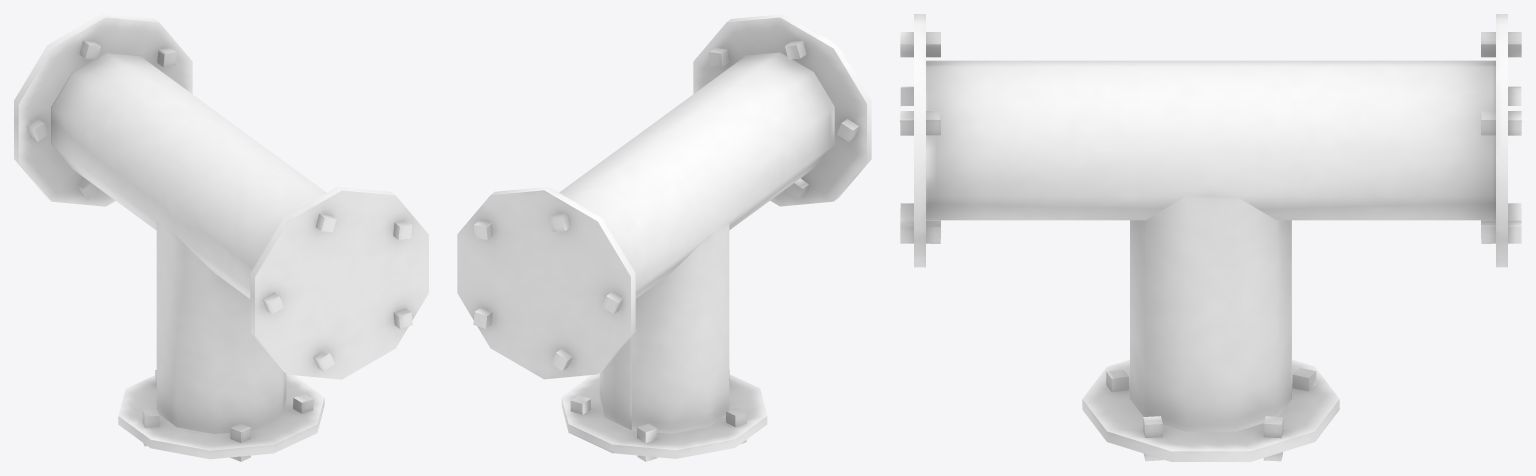
The model's file is PipeT.glb.
The picture shows the model from 3 angles, left to right: view 1: azimuth 30°, elevation 25°; view 2: azimuth 150°, elevation 25°; view 3: azimuth 270°, elevation 25°; orthographic projection. The views are drawn at different scales.
Visible parts, largest first — view 1: PipeT; view 2: PipeT; view 3: PipeT.
Boxes of the visible parts, left/top/right/bottom form: PipeT: left=14, top=14, right=428, bottom=461; PipeT: left=457, top=14, right=871, bottom=461; PipeT: left=900, top=14, right=1521, bottom=461.
Bounding box in the file's own units: 0.3965 × 0.7045 × 0.9966.
1 material, 1 textured.
